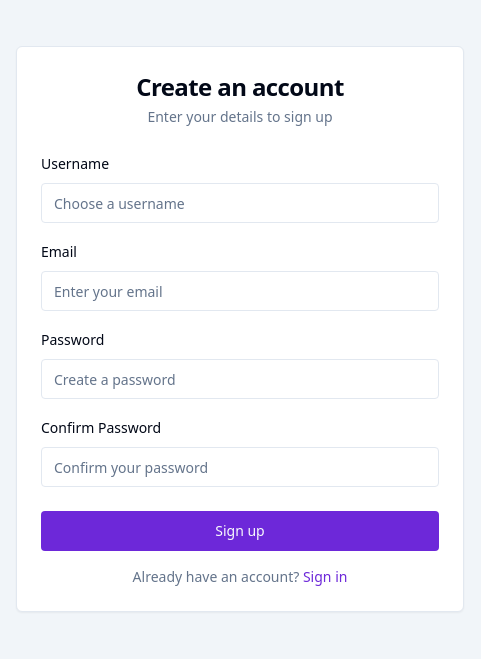
Signup › shows error when passwords don't match
Type "testuser" into the field labelled "Username".
click(240, 203); type("testuser")  # box [41, 183, 439, 223]
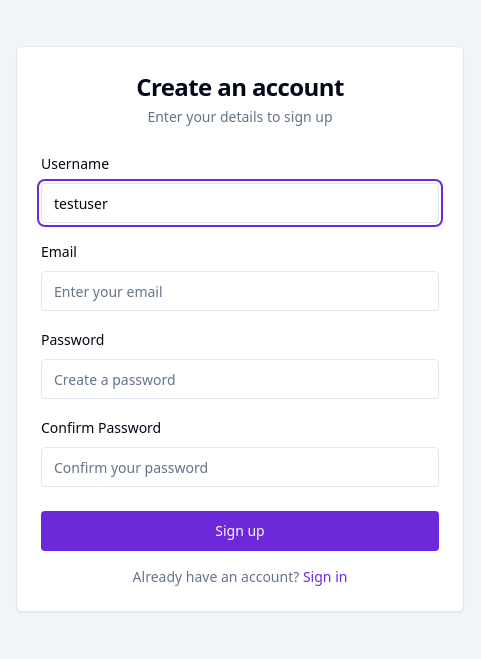
Type "test@example.com" into the field labelled "Email".
click(240, 291); type("test@example.com")  # box [41, 271, 439, 311]
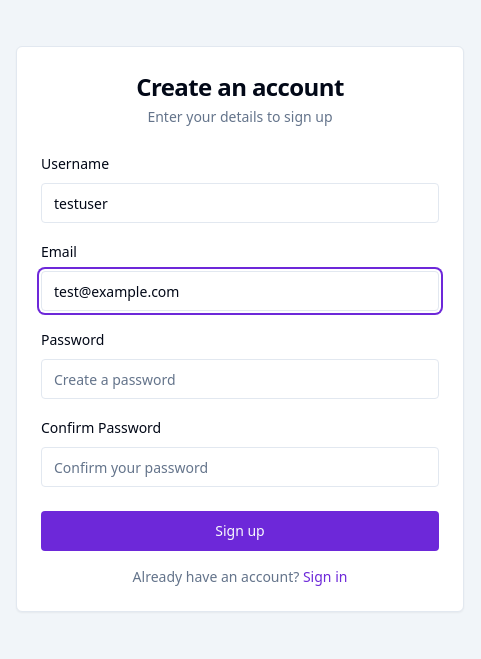
Type "password123" into the password field labelled "Password".
click(240, 379); type("password123")  # box [41, 359, 439, 399]
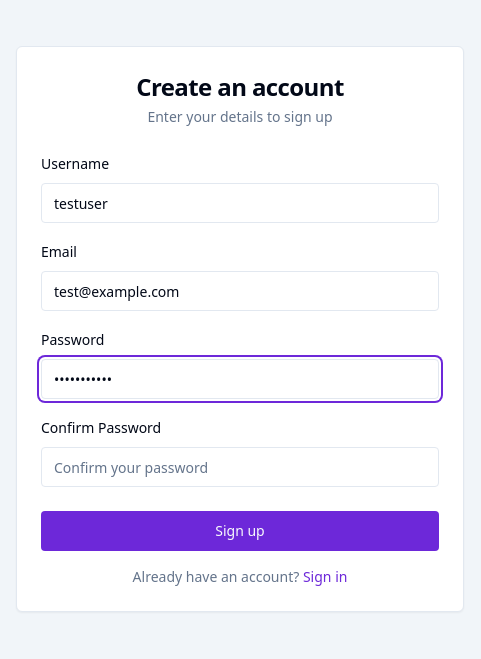
Type "differentpassword" into the password field labelled "Confirm Password".
click(240, 467); type("differentpassword")  # box [41, 447, 439, 487]
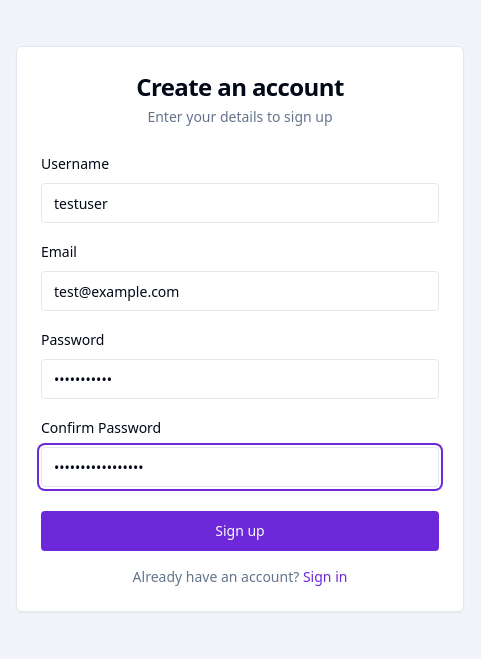
Click the button "Sign up".
click(240, 531)  # box [41, 511, 439, 551]
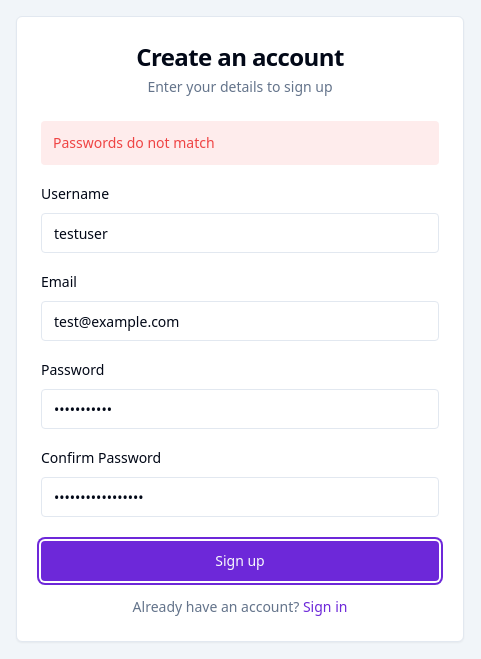
Check: the text "Passwords do not match" is shown, box [41, 121, 439, 165]
